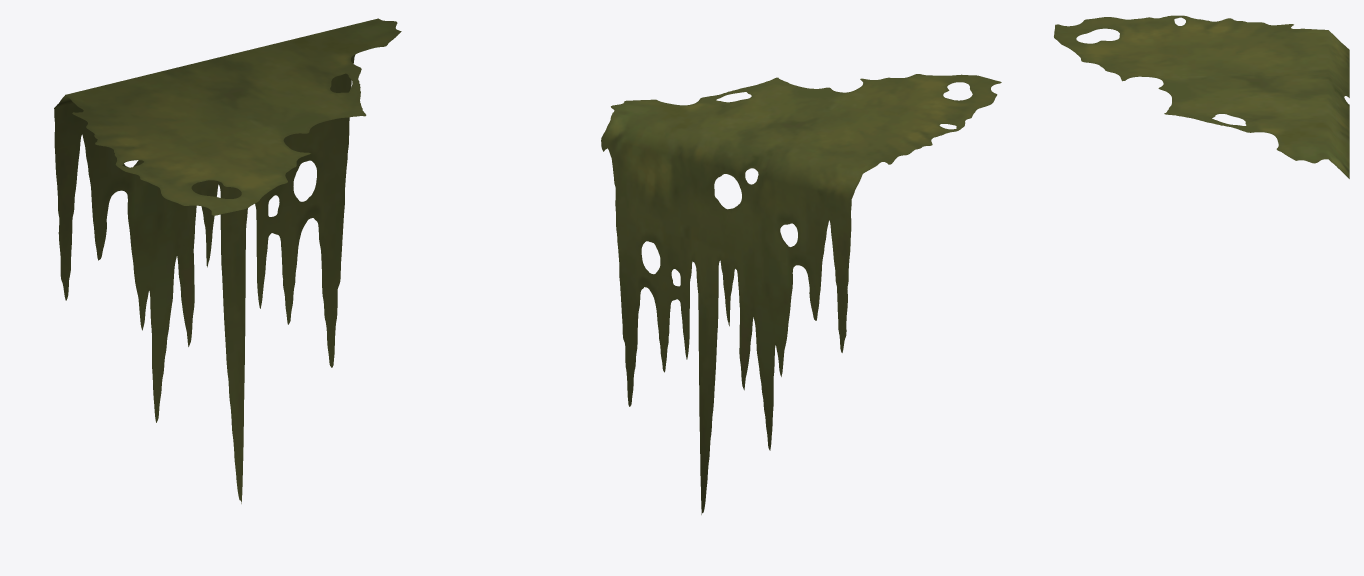
The model's file is yw_shanlin_cirrus_002.FBX.
3 renders of one model, left to right at view 1: azimuth 30°, elevation 25°; view 2: azimuth 150°, elevation 25°; view 3: azimuth 270°, elevation 25°, orthographic. The views are drawn at different scales.
Parts seen in each view (by area): view 1: yw_shanlin_cirrus_002; view 2: yw_shanlin_cirrus_002; view 3: yw_shanlin_cirrus_002.
Boxes of the visible parts, left/top/right/bottom form: yw_shanlin_cirrus_002: left=54, top=18, right=401, bottom=503; yw_shanlin_cirrus_002: left=601, top=74, right=1001, bottom=514; yw_shanlin_cirrus_002: left=1054, top=15, right=1349, bottom=178.
Bounding box in the file's own units: 134 × 110 × 161.
